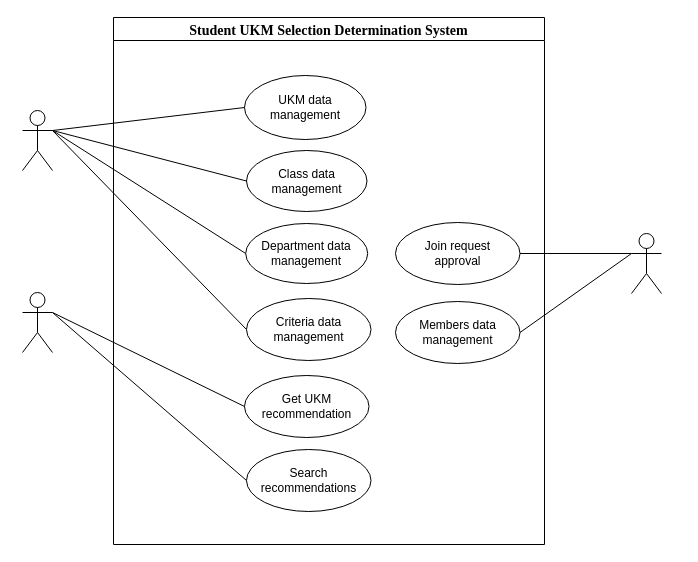
The diagram is 698 pixels wide and 562 high, and some of its shapes have lost their labels. The centre of each missing label's shape, as x and y in pixels:
"Admin" goes at [37,140].
"Student" goes at [37,322].
"UKM Organization" goes at [646,263].
